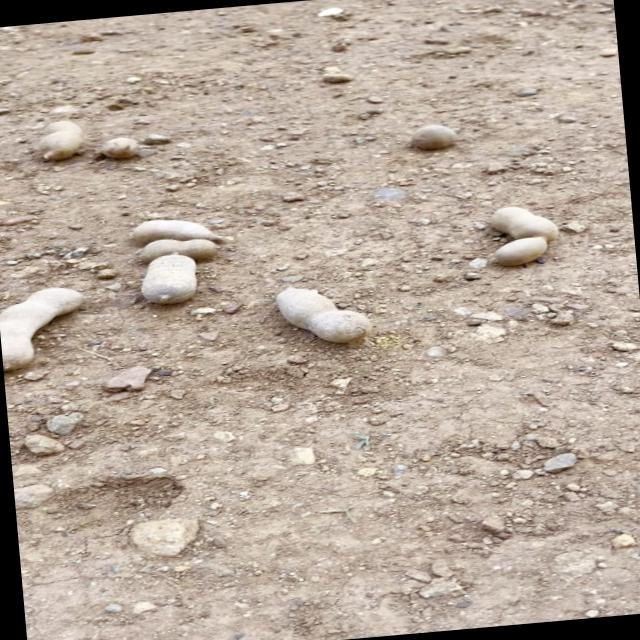tamarind: (0, 280, 92, 370), (269, 278, 373, 350), (125, 209, 232, 260), (486, 197, 559, 244), (34, 114, 86, 164), (497, 233, 560, 270), (148, 254, 200, 298), (404, 118, 459, 157), (90, 133, 158, 161)
